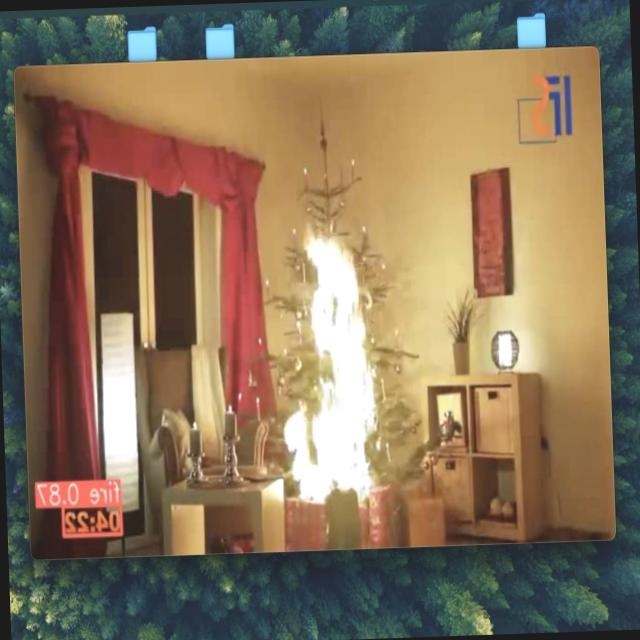fire: (250, 180, 396, 515)
